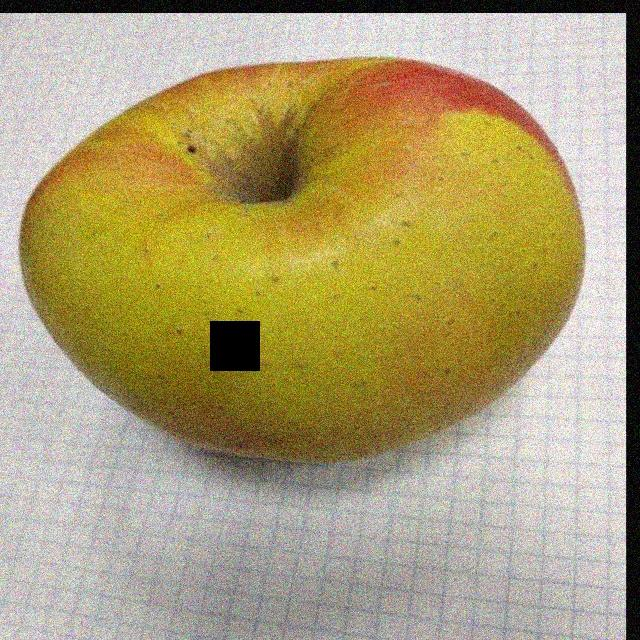green apple: (33, 55, 594, 482)
